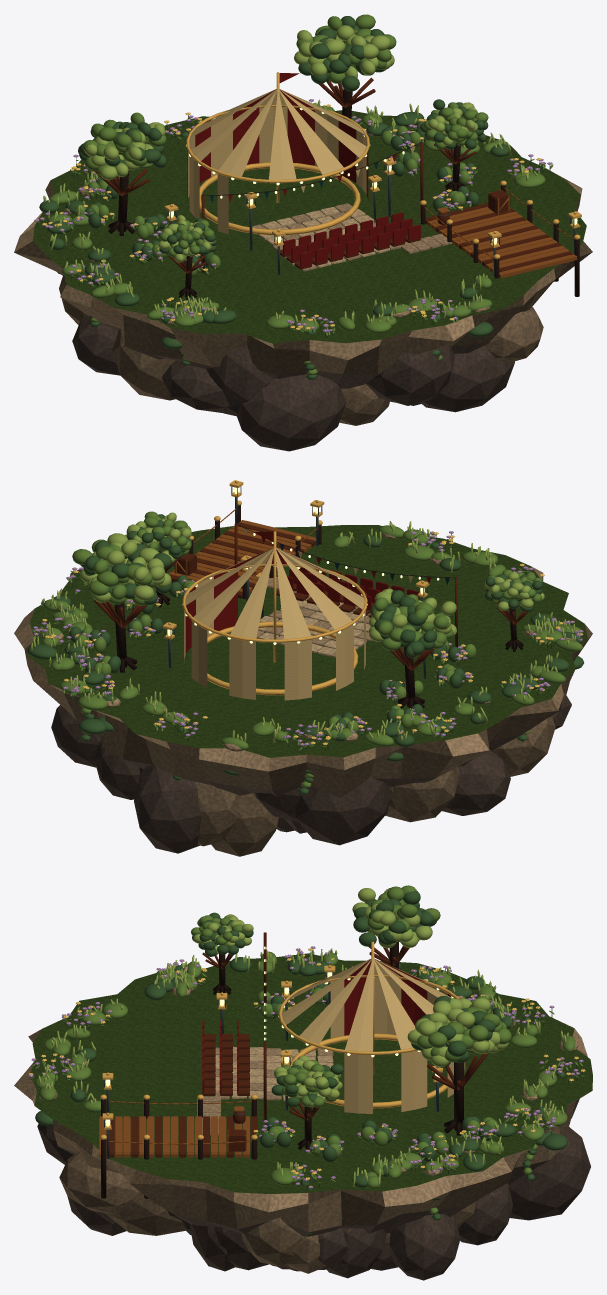
The model's file is circus.glb.
The picture shows the model from 3 angles, top to bottom: view 1: azimuth 30°, elevation 25°; view 2: azimuth 150°, elevation 25°; view 3: azimuth 270°, elevation 25°; orthographic projection. The views are drawn at different scales.
Visible parts, largest first — view 1: GEO-circus-grass.002, GEO-circus-rock.002, GEO-circus-rockLight.002, GEO-circus-leaf.002, GEO-circus-leafDark.002, GEO-circus-cream.002, GEO-circus-leafLight.002, GEO-circus-stone.002, GEO-circus-red.002, GEO-circus-wood.002, GEO-circus-oak.002, GEO-circus-brass.002 (+5 smaller); view 2: GEO-circus-grass.002, GEO-circus-rockLight.002, GEO-circus-rock.002, GEO-circus-leaf.002, GEO-circus-leafDark.002, GEO-circus-cream.002, GEO-circus-leafLight.002, GEO-circus-stone.002, GEO-circus-wood.002, GEO-circus-brass.002, GEO-circus-red.002, GEO-circus-oak.002 (+5 smaller); view 3: GEO-circus-grass.002, GEO-circus-rock.002, GEO-circus-rockLight.002, GEO-circus-leaf.002, GEO-circus-leafDark.002, GEO-circus-cream.002, GEO-circus-leafLight.002, GEO-circus-stone.002, GEO-circus-wood.002, GEO-circus-oak.002, GEO-circus-brass.002, GEO-circus-darkwood.002 (+5 smaller).
Boxes of the visible parts, <box> form: GEO-circus-grass.002: <box>32,110,586,343</box>; GEO-circus-rock.002: <box>57,272,514,451</box>; GEO-circus-rockLight.002: <box>14,149,592,425</box>; GEO-circus-leaf.002: <box>37,14,553,375</box>; GEO-circus-leafDark.002: <box>36,16,550,379</box>; GEO-circus-cream.002: <box>188,89,414,234</box>; GEO-circus-leafLight.002: <box>43,25,537,325</box>; GEO-circus-stone.002: <box>14,132,592,359</box>; GEO-circus-red.002: <box>187,73,420,267</box>; GEO-circus-wood.002: <box>94,77,572,273</box>; GEO-circus-oak.002: <box>424,187,577,278</box>; GEO-circus-brass.002: <box>164,72,581,259</box>; GEO-circus-grass.002: <box>26,525,587,757</box>; GEO-circus-rockLight.002: <box>34,635,591,856</box>; GEO-circus-rock.002: <box>51,695,571,853</box>; GEO-circus-leaf.002: <box>32,511,583,788</box>; GEO-circus-leafDark.002: <box>27,514,583,794</box>; GEO-circus-cream.002: <box>184,528,412,700</box>; GEO-circus-leafLight.002: <box>30,512,577,742</box>; GEO-circus-stone.002: <box>14,533,592,771</box>; GEO-circus-wood.002: <box>94,523,533,670</box>; GEO-circus-brass.002: <box>162,480,429,695</box>; GEO-circus-red.002: <box>186,531,431,653</box>; GEO-circus-oak.002: <box>169,508,316,592</box>; GEO-circus-grass.002: <box>30,953,592,1193</box>; GEO-circus-rock.002: <box>37,1123,590,1280</box>; GEO-circus-rockLight.002: <box>53,1098,579,1273</box>; GEO-circus-leaf.002: <box>28,885,584,1214</box>; GEO-circus-leafDark.002: <box>31,891,583,1234</box>; GEO-circus-cream.002: <box>281,958,465,1113</box>; GEO-circus-leafLight.002: <box>38,888,568,1186</box>; GEO-circus-stone.002: <box>14,985,588,1212</box>; GEO-circus-wood.002: <box>109,932,488,1157</box>; GEO-circus-oak.002: <box>99,1100,251,1157</box>; GEO-circus-brass.002: <box>100,941,459,1139</box>; GEO-circus-darkwood.002: <box>101,933,463,1198</box>.
Bounding box in the file's own units: 27.62 × 15.8 × 26.88.
Materials: 19 (11 with a texture image).
